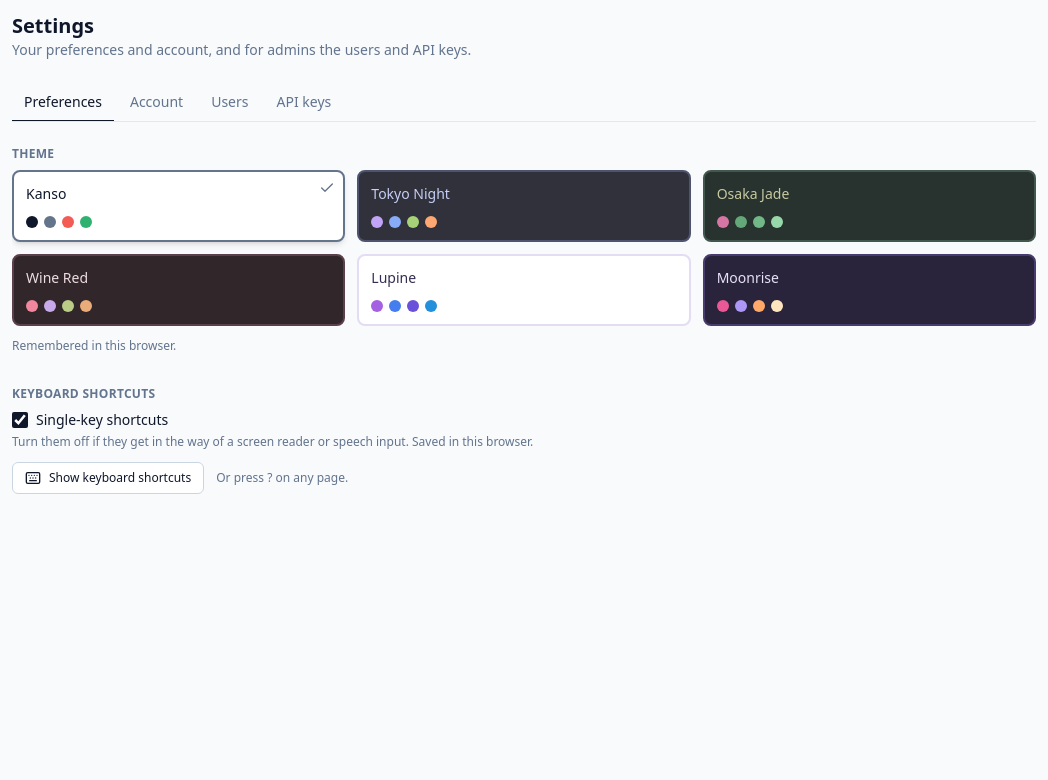
Test: the settings page › tabs › opens a tab, and keeps it in the URL
Check: the heading "Settings" is shown, box top-left (12, 12), bottom-right (94, 39)
Click the tab "API keys". click: point(304, 103)
box: top-left (264, 84), bottom-right (343, 122)
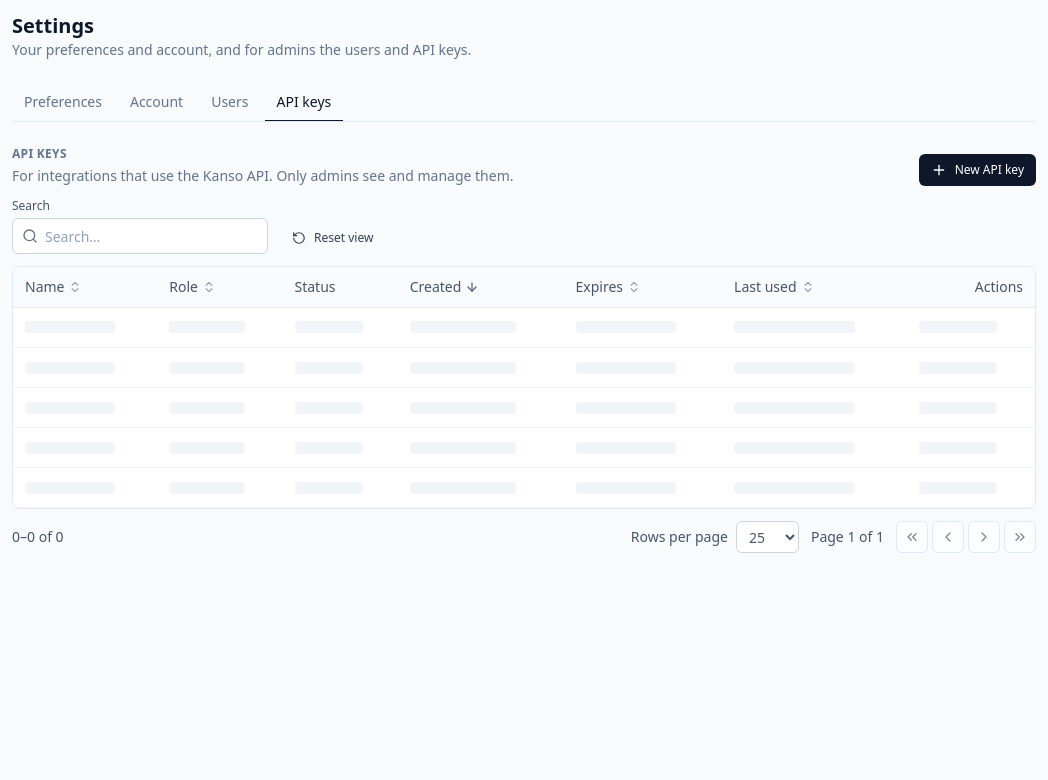
Check: the element "API keys" is shown, box top-left (12, 146), bottom-right (1036, 553)
Check: the heading "Theme" is gone
Click the tab "Preferences". click: point(63, 103)
box: top-left (12, 84), bottom-right (114, 122)
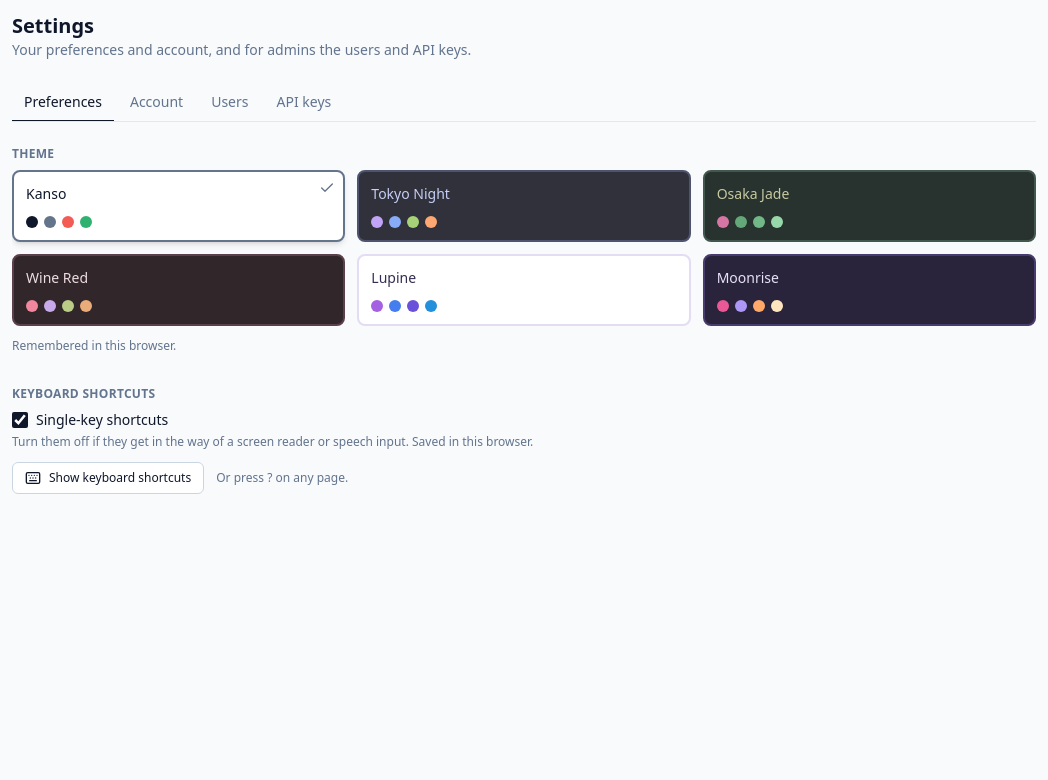
Check: the element named "Theme" is shown, box top-left (12, 170), bottom-right (1036, 326)
